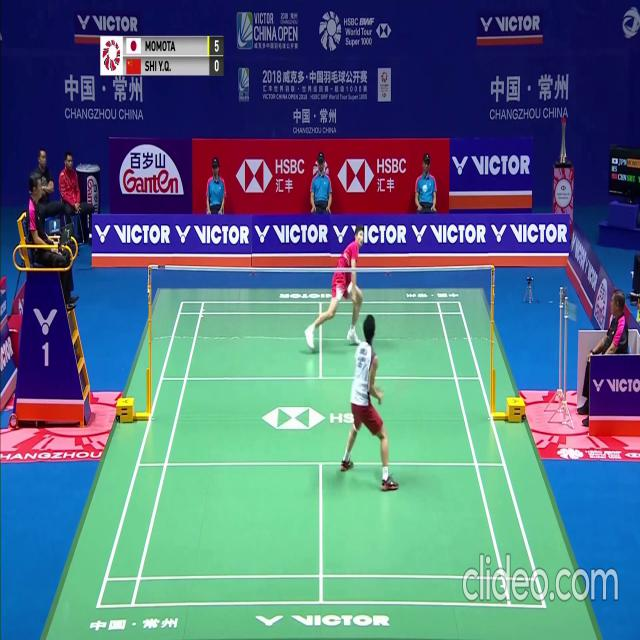Shuttlecock: (422, 184, 427, 192)
